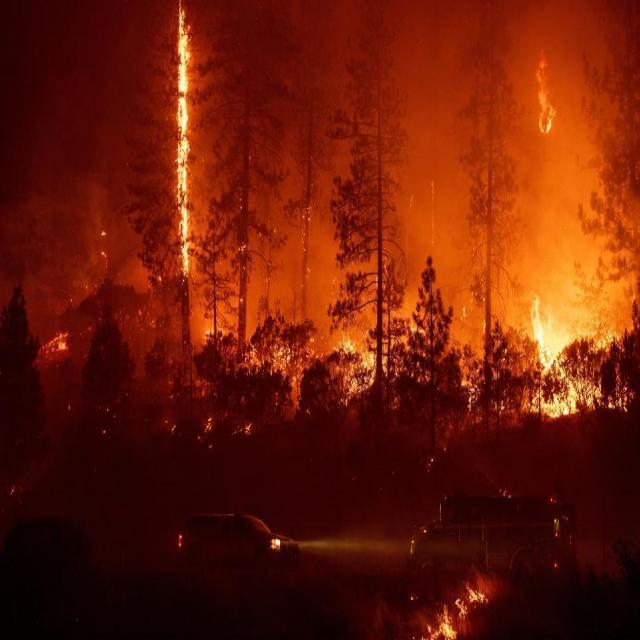Fire: (528, 299, 601, 423), (174, 1, 189, 283)
